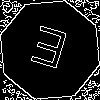E: (25, 25, 71, 78)
